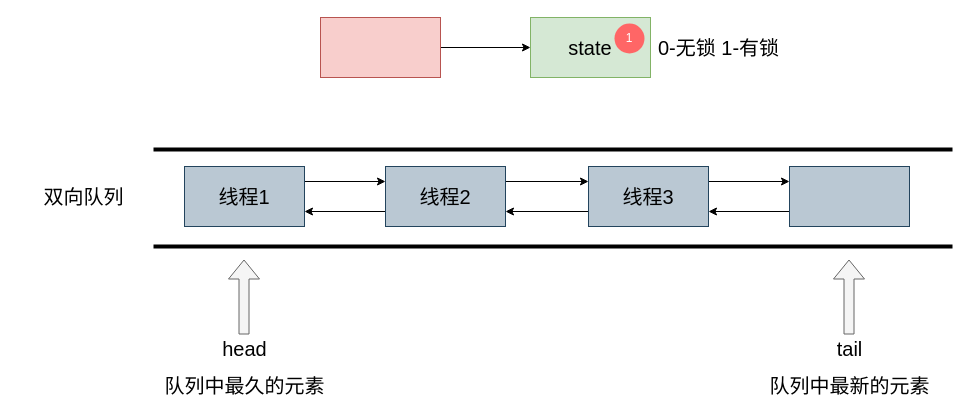
This 971x418 diagram has some shape labels left out. The centre of each missing label's shape, as x and y in pixels:
"线程0" goes at point (380, 47).
"线程4" goes at point (849, 196).
